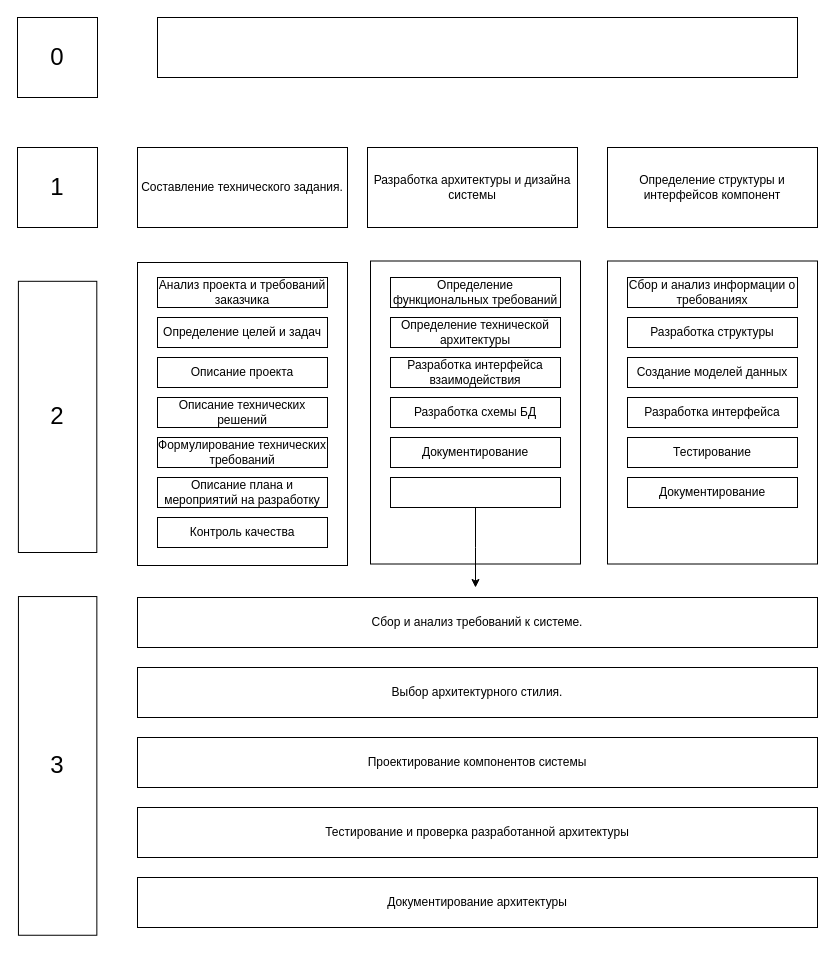
Some shapes in this 835 by 953 pixel diagram are drawn without their labels. The centre of each missing label's shape, as x and y in pixels:
"Процесс технического проектирования при разработке программного обеспечения" belongs at point 477,47.
"Разработка архитектуры системы" belongs at point 475,492.
